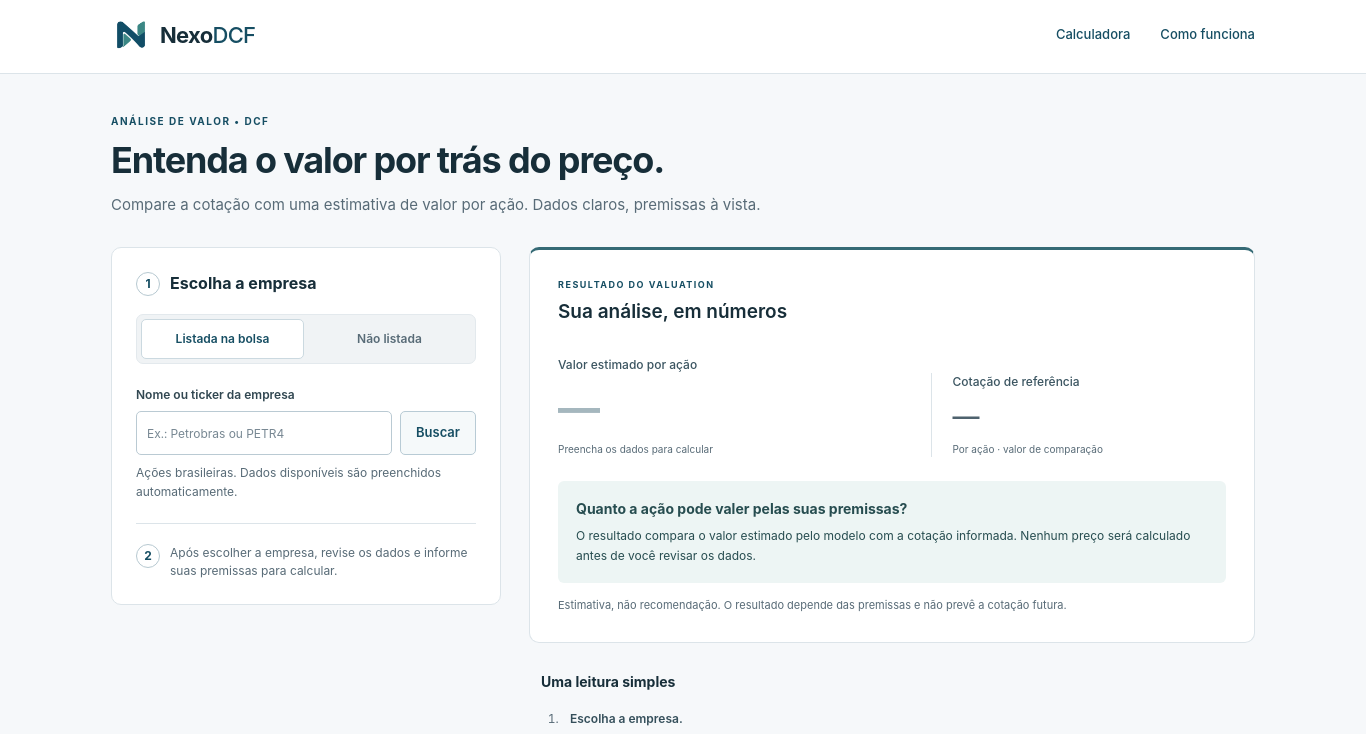
fluxos da interface › preenche API, mantém zero, libera ausentes e restaura sem apagar complemento manual
Step 1. Type "TEST3" into the field with id "company-search" → (264, 433), box [136,411,392,455]
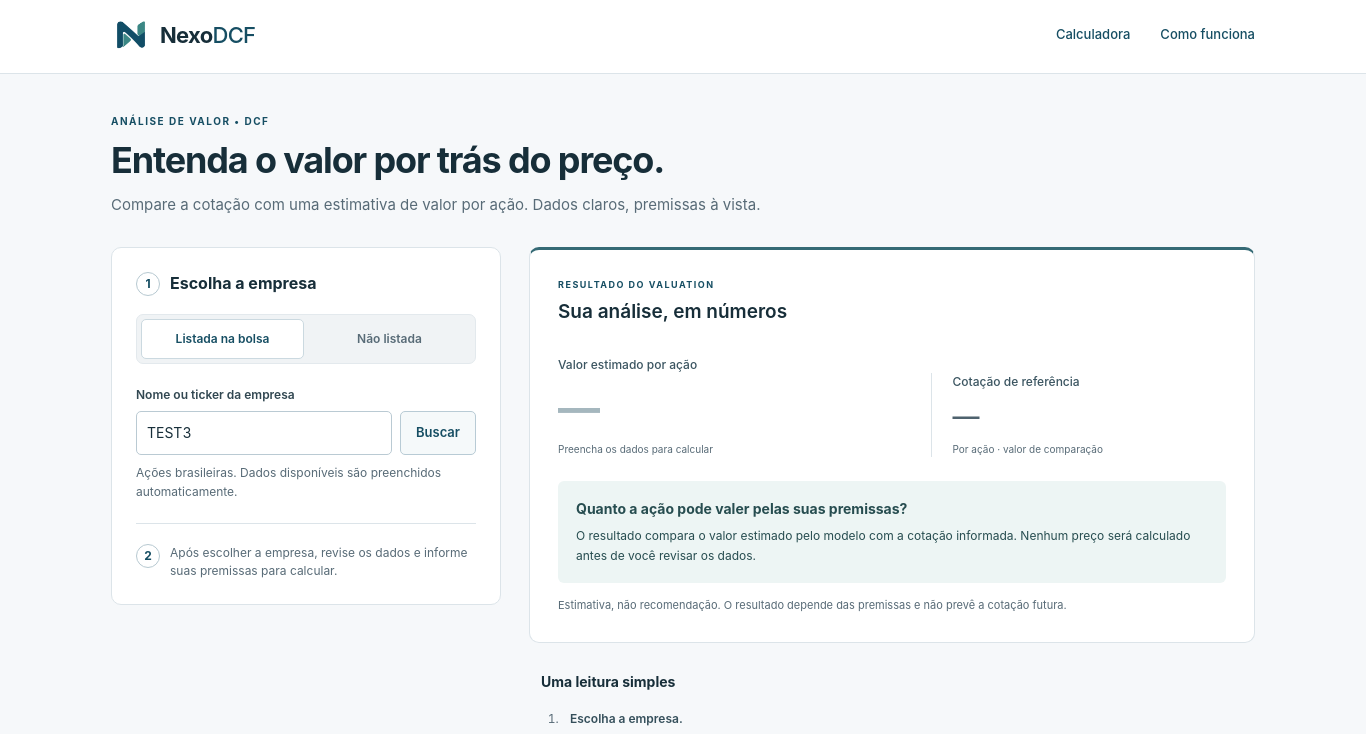
Step 2. Click the button "Buscar" → (438, 433), box [400,411,476,455]
(page scrolled)
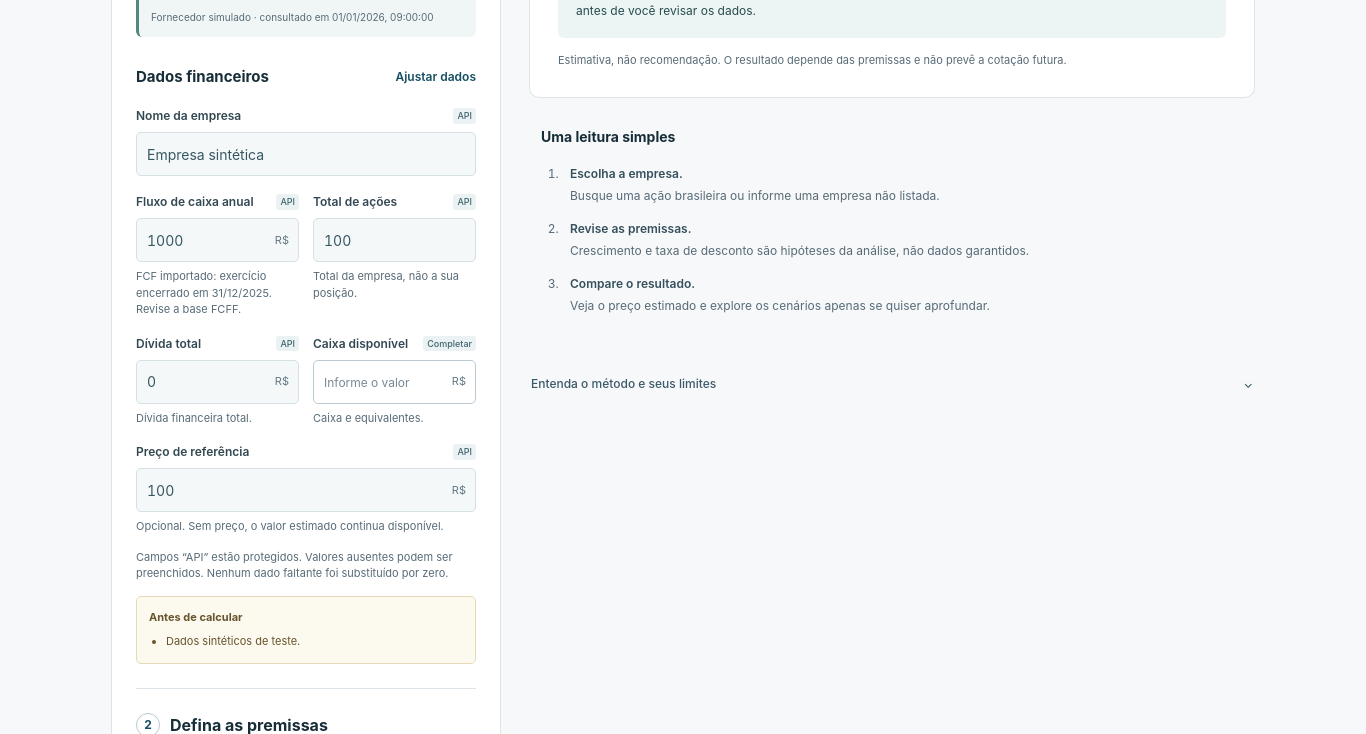
expect the field showing "Empresa sintética" is shown: met, box [136,132,476,176]
expect the field with id "divida" holds "0": met, box [136,360,299,404]
expect the field with id "caixa" is empty: met
Step 3. Type "30" into the field with id "caixa" → (394, 382), box [313,360,476,404]
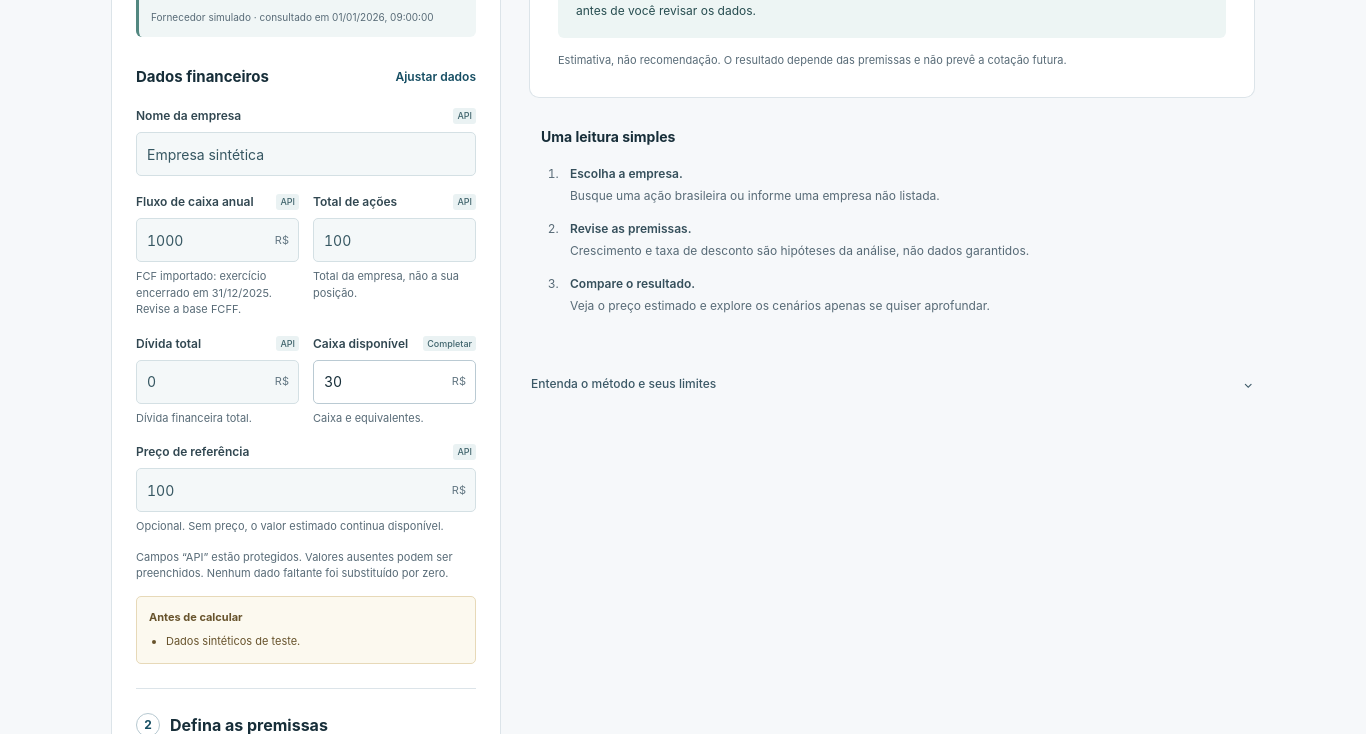
Step 4. Click the button "Ajustar dados" → (436, 77), box [395,57,476,97]
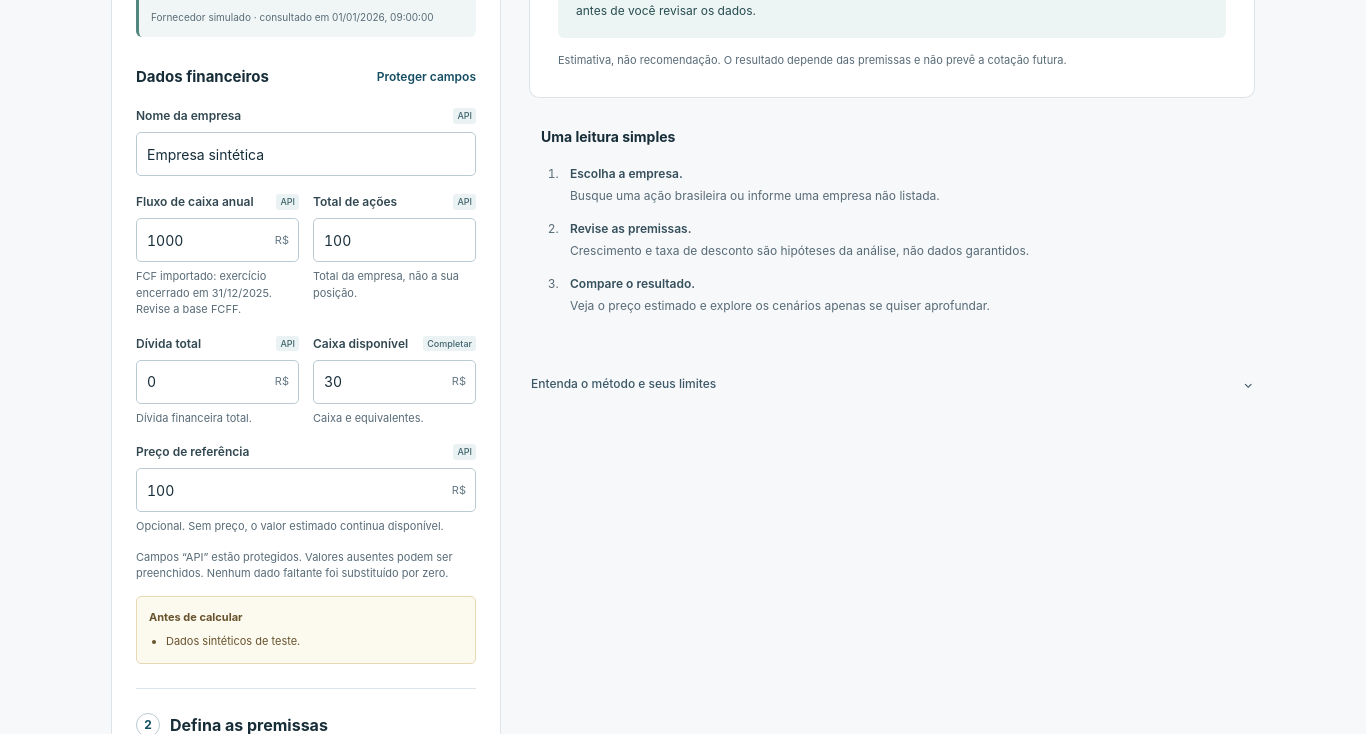
Step 5. Replace the text in the field with id "divida" with "25" → (218, 382), box [136,360,299,404]
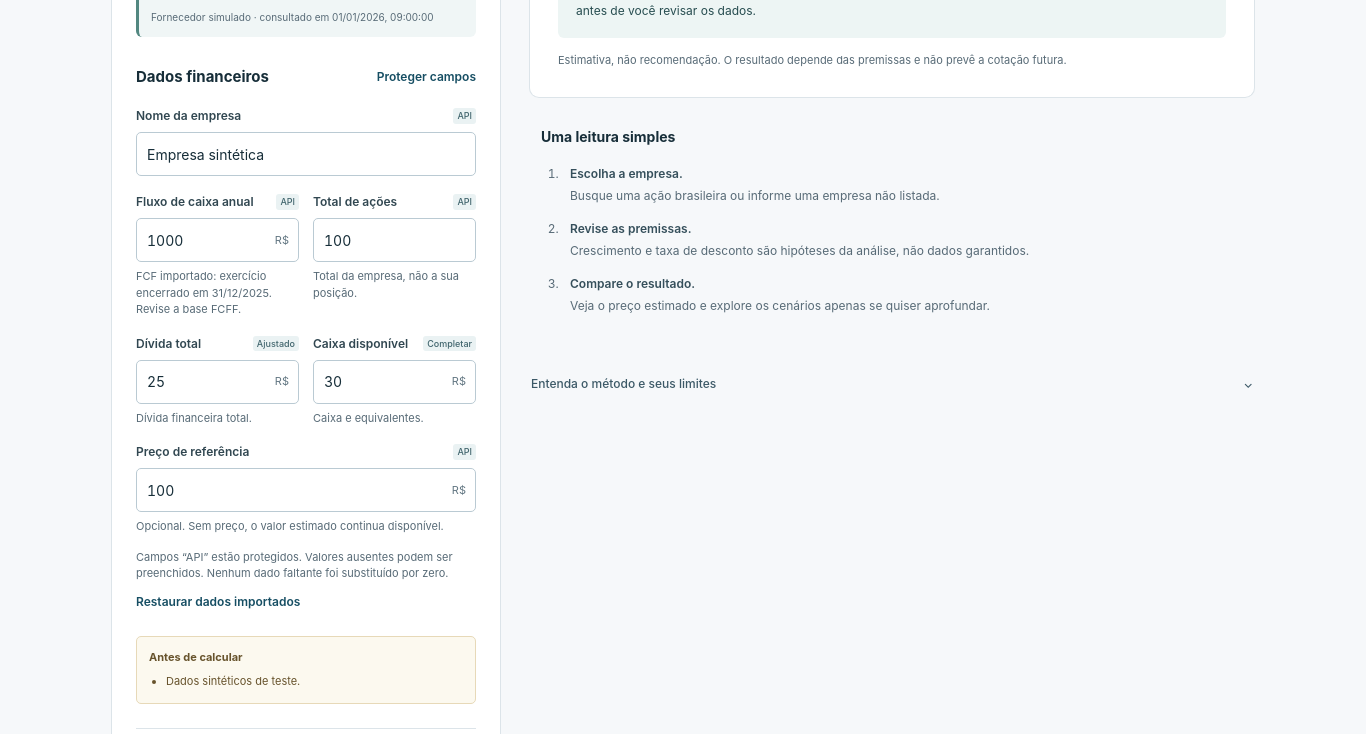
Step 6. Click the button "Restaurar dados importados" → (218, 602), box [136,582,300,622]
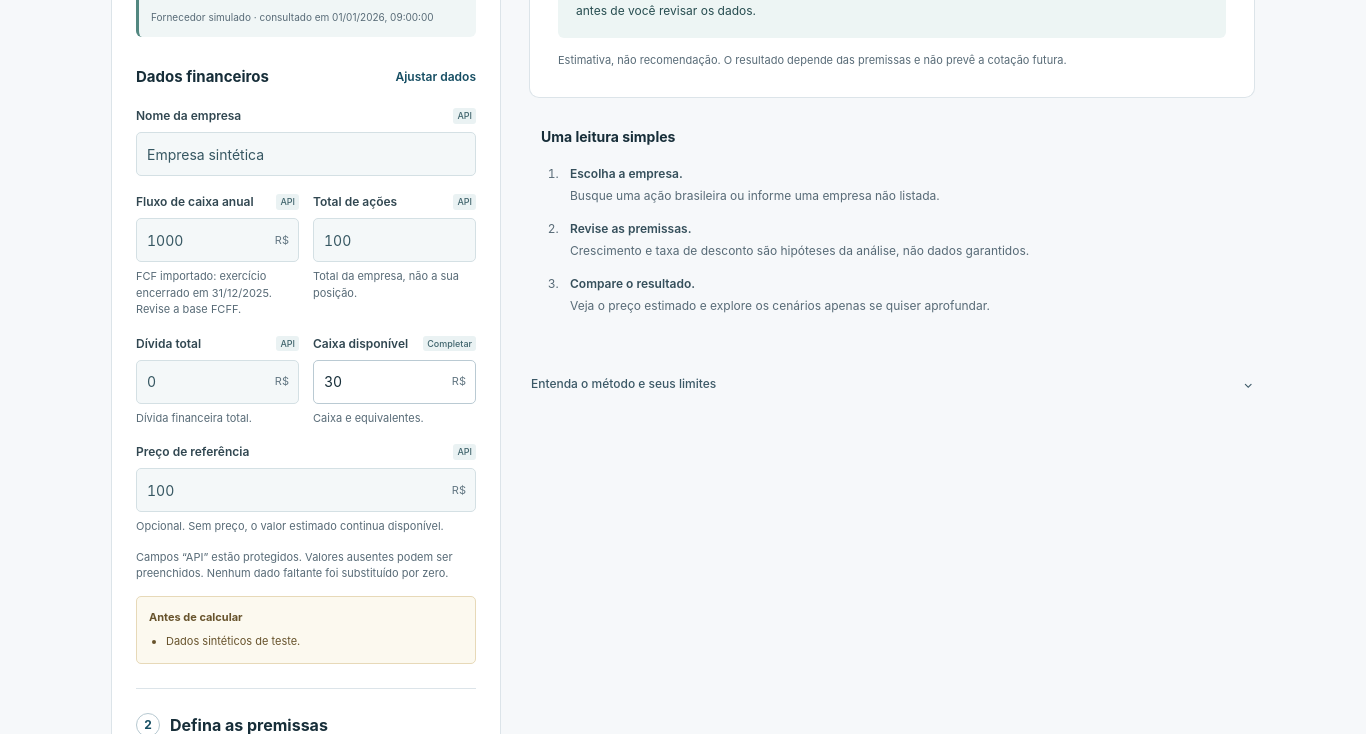
expect the field with id "divida" holds "0": met, box [136,360,299,404]
